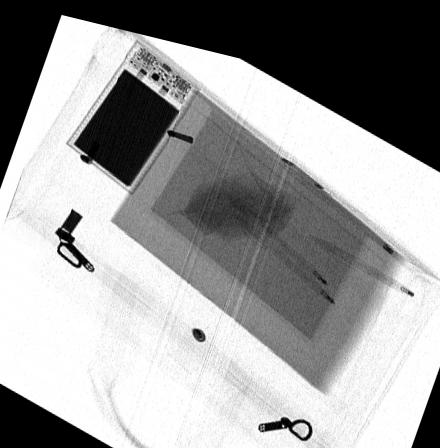Powerbank: (65, 32, 202, 189)
